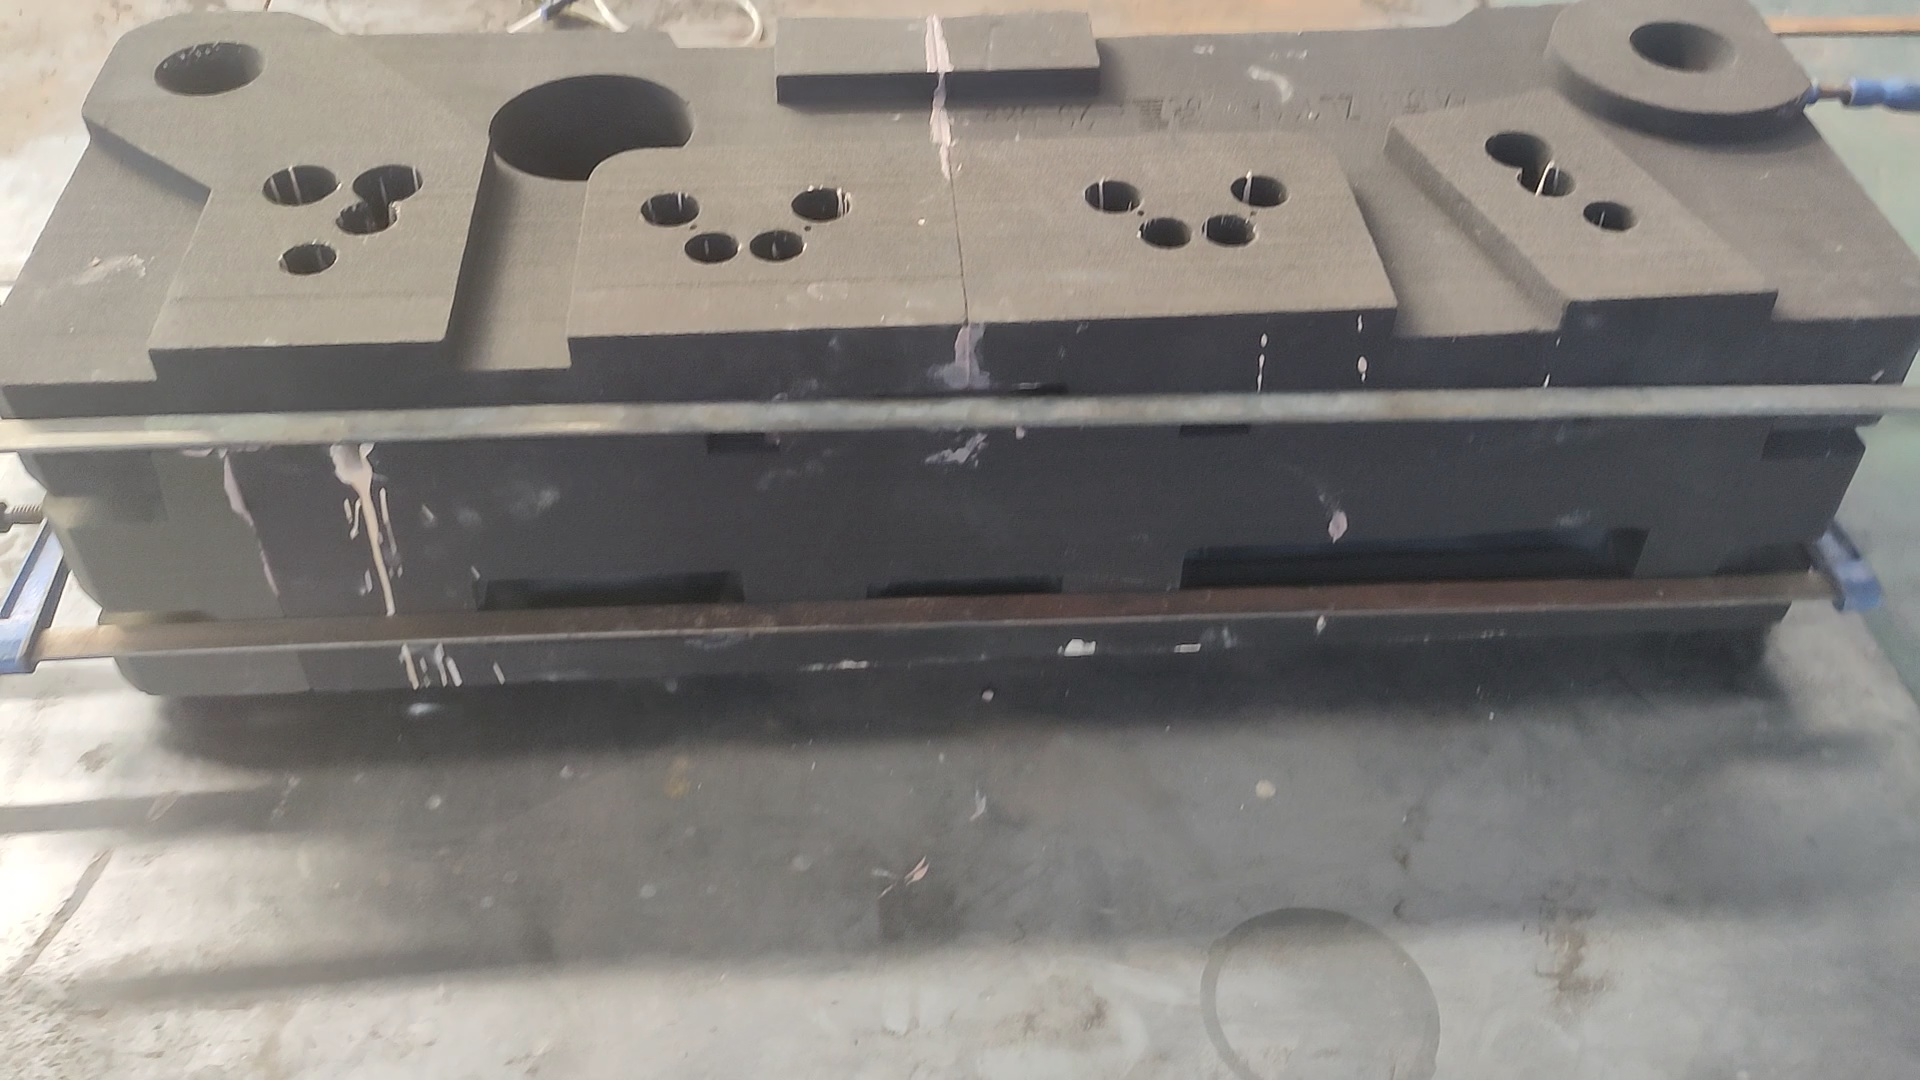pouring hole: (154, 42, 266, 98), (1629, 22, 1735, 73)
